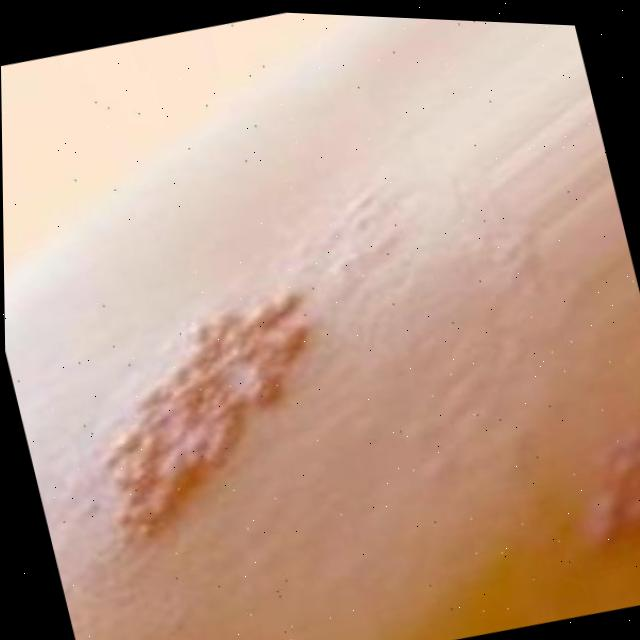Shingles: (59, 280, 340, 549), (575, 409, 640, 555)
